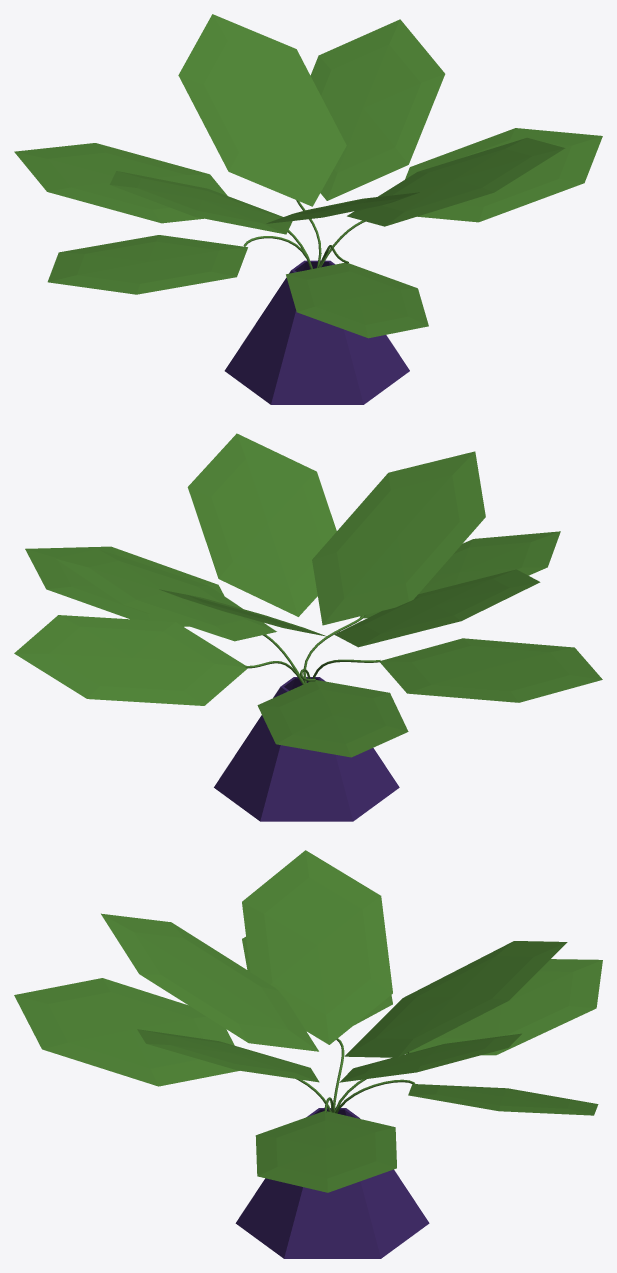
File: Plant.fbx
3 renders of one model, top to bottom at view 1: azimuth 30°, elevation 25°; view 2: azimuth 150°, elevation 25°; view 3: azimuth 270°, elevation 25°, orthographic. The views are drawn at different scales.
Visible parts, largest first — view 1: Leafs, Vase; view 2: Leafs, Vase; view 3: Leafs, Vase.
Part boxes in pixels (box(x1,y1,x2,y2)): Leafs: box(14, 14, 602, 338); Vase: box(224, 260, 409, 404); Leafs: box(14, 433, 602, 757); Vase: box(214, 677, 399, 821); Leafs: box(14, 850, 602, 1192); Vase: box(235, 1108, 429, 1258).
Bounding box in the file's own units: 211 × 97.26 × 182.
